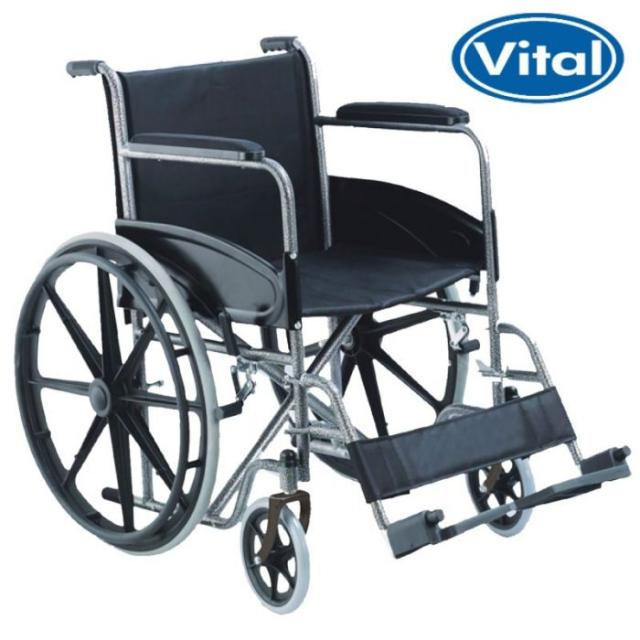wheelchairs: (16, 34, 637, 609)
